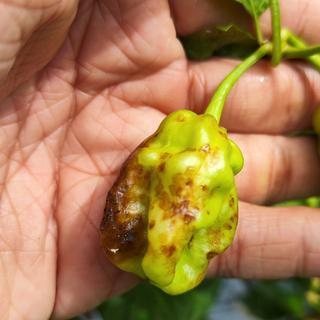Defect: (94, 128, 164, 270), (157, 168, 205, 228), (208, 190, 242, 250)
